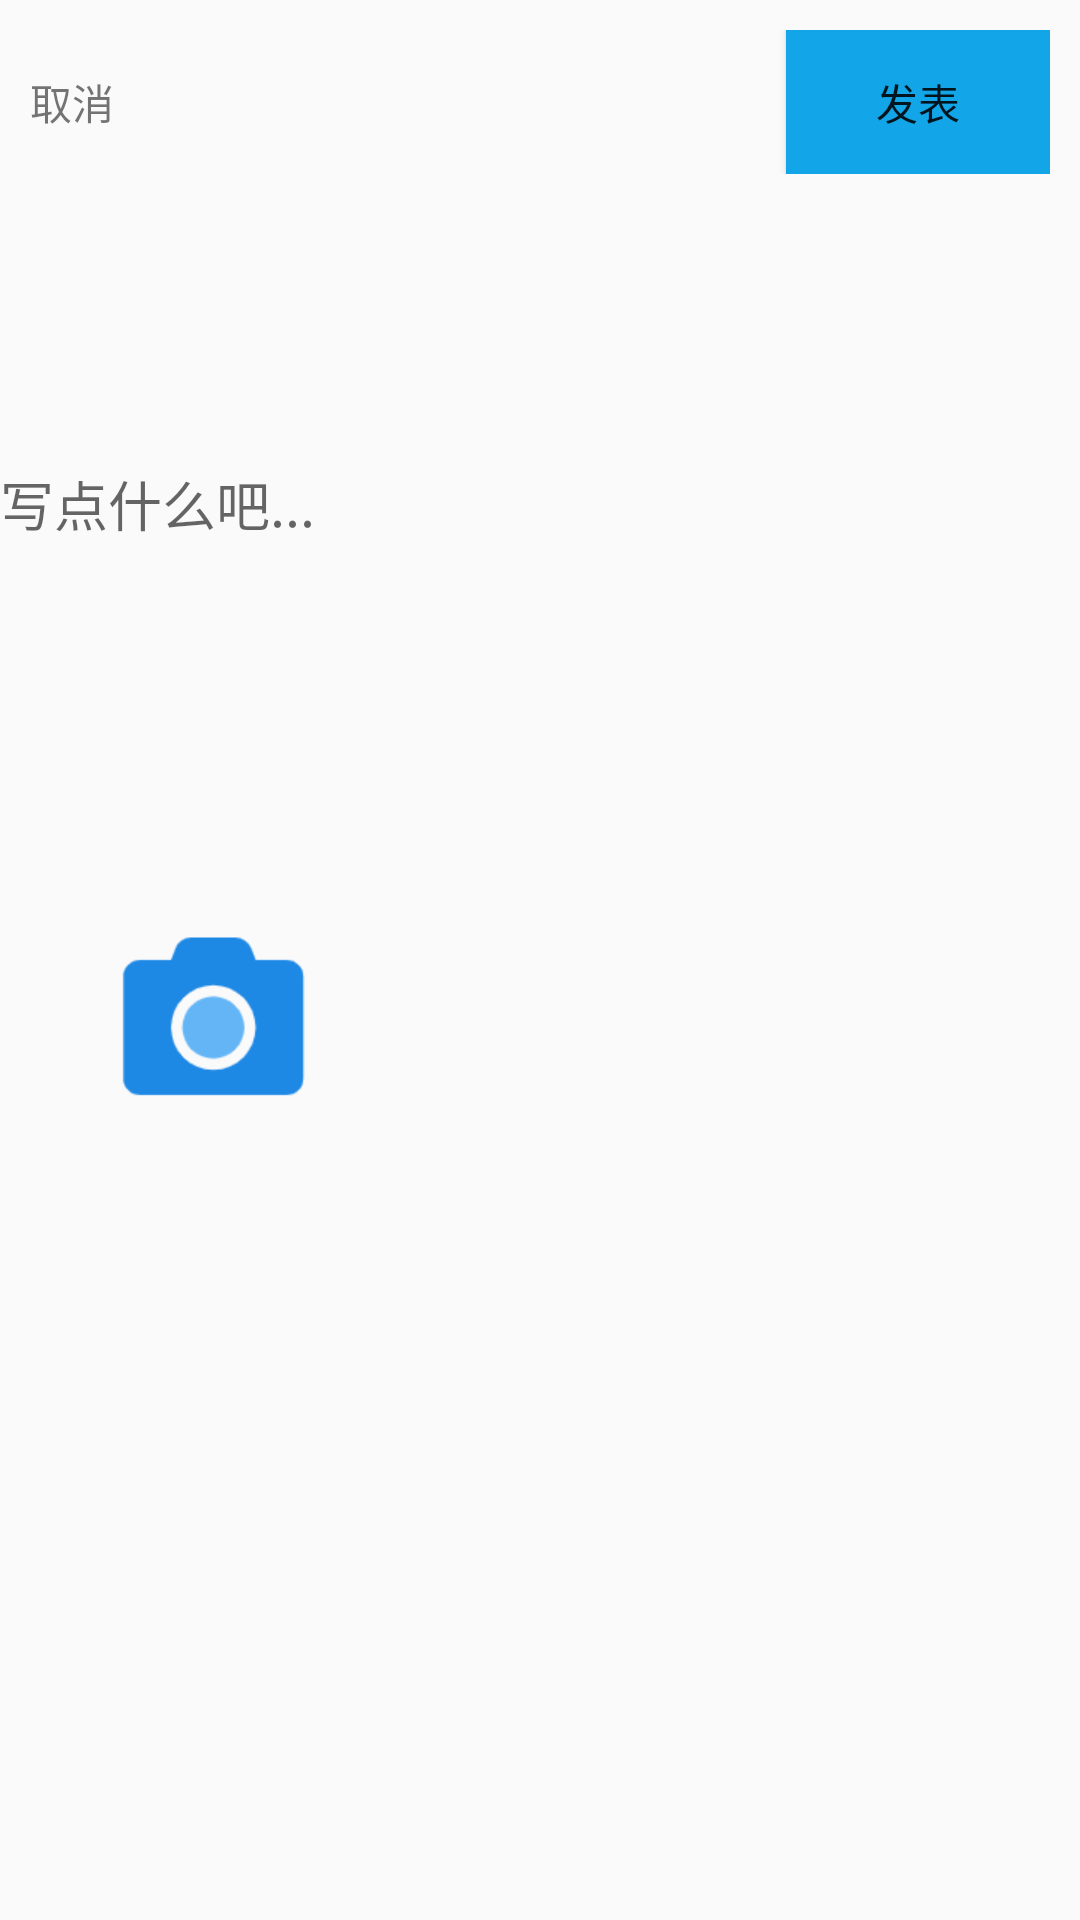

Where icons sit on this 1080 × 1920 app screen, as {"x1": x1, "y1": y1, "x2": x2, "y2": y2}:
camera: {"x1": 122, "y1": 937, "x2": 305, "y2": 1096}
